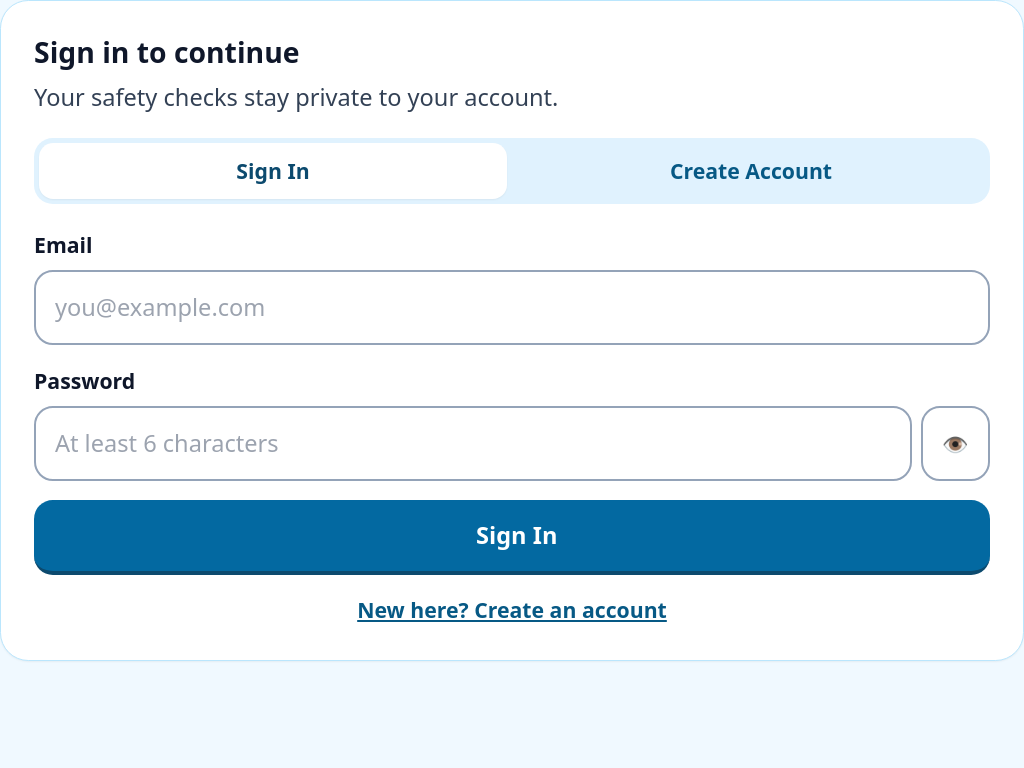
AuthScreen › switches to the registration form
The image size is (1024, 768).
Click the tab "Create Account" at (751, 171), box [517,143,985,199]
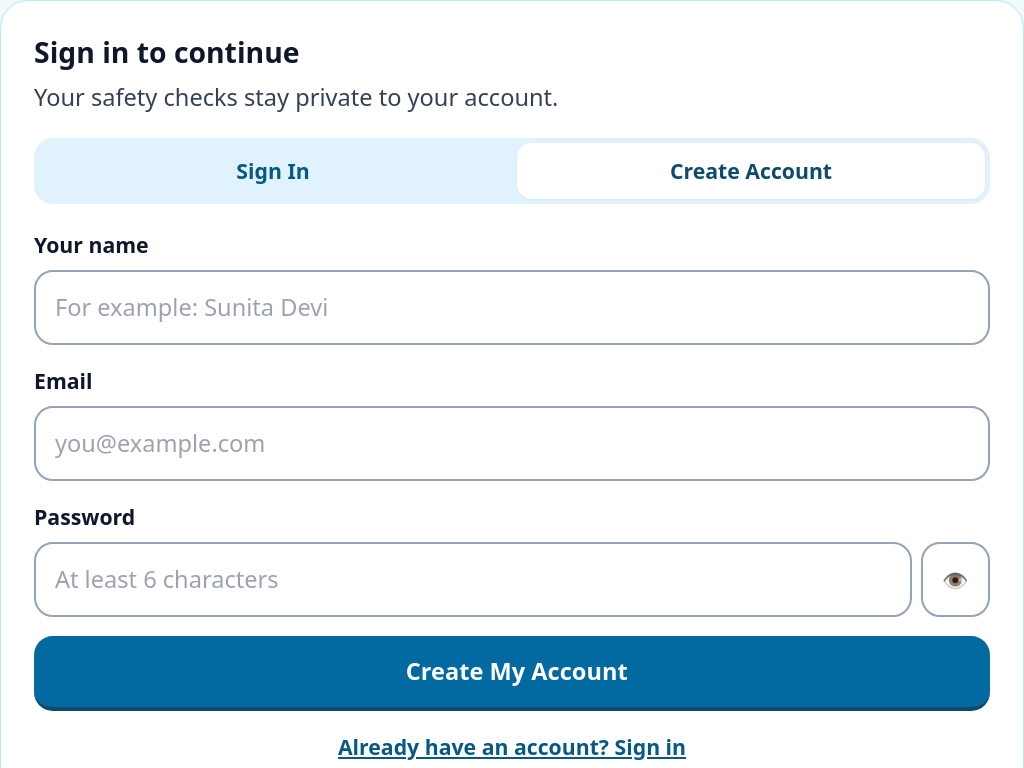
Expected: the field labelled "Your name" is shown, [34,270,990,345]
